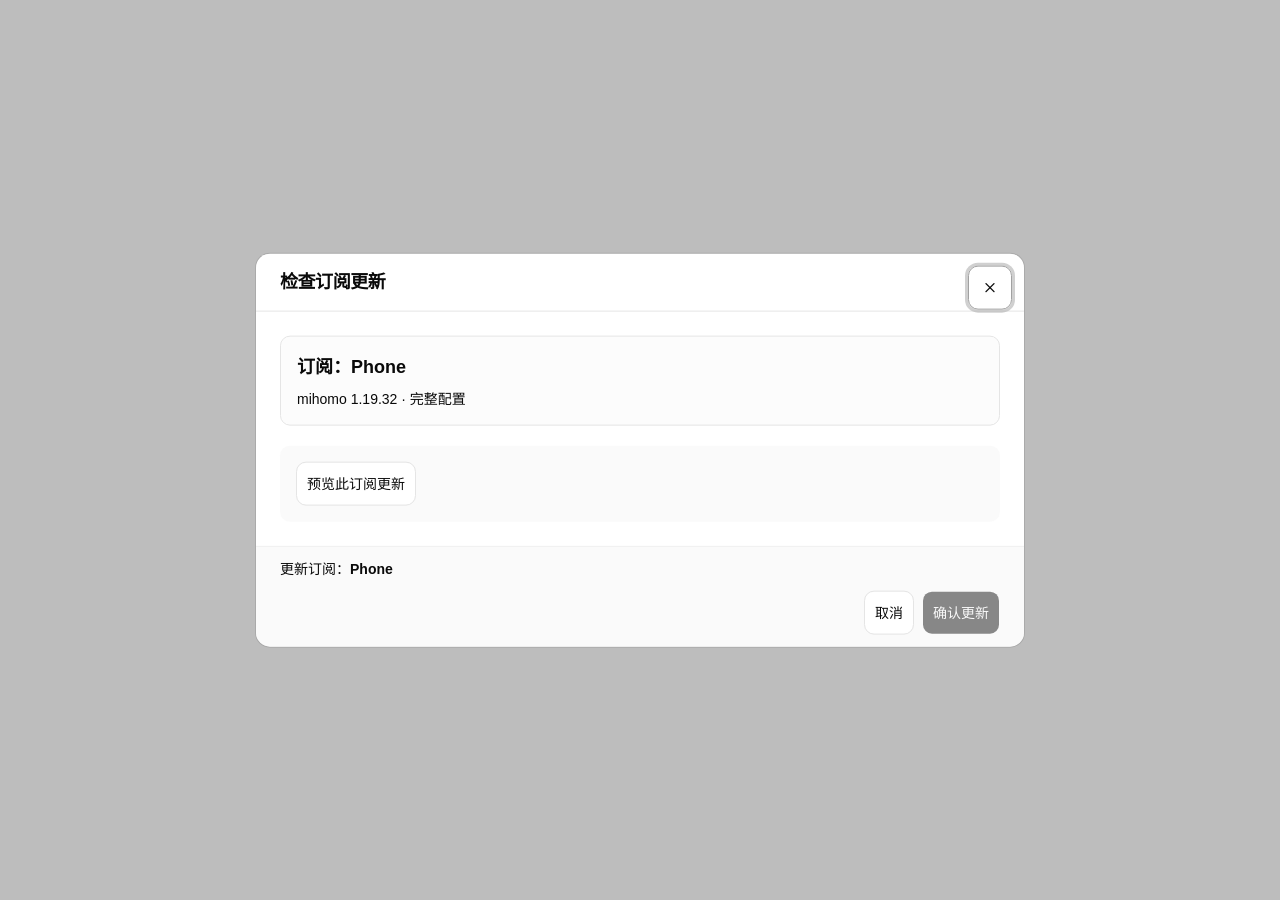
Test case: puts changed connections before unchanged groups and exposes categories rather than private values
The width and height of the screenshot is (1280, 900).
Click the button "预览此订阅更新": (356, 483) top-left (296, 461), bottom-right (416, 505)
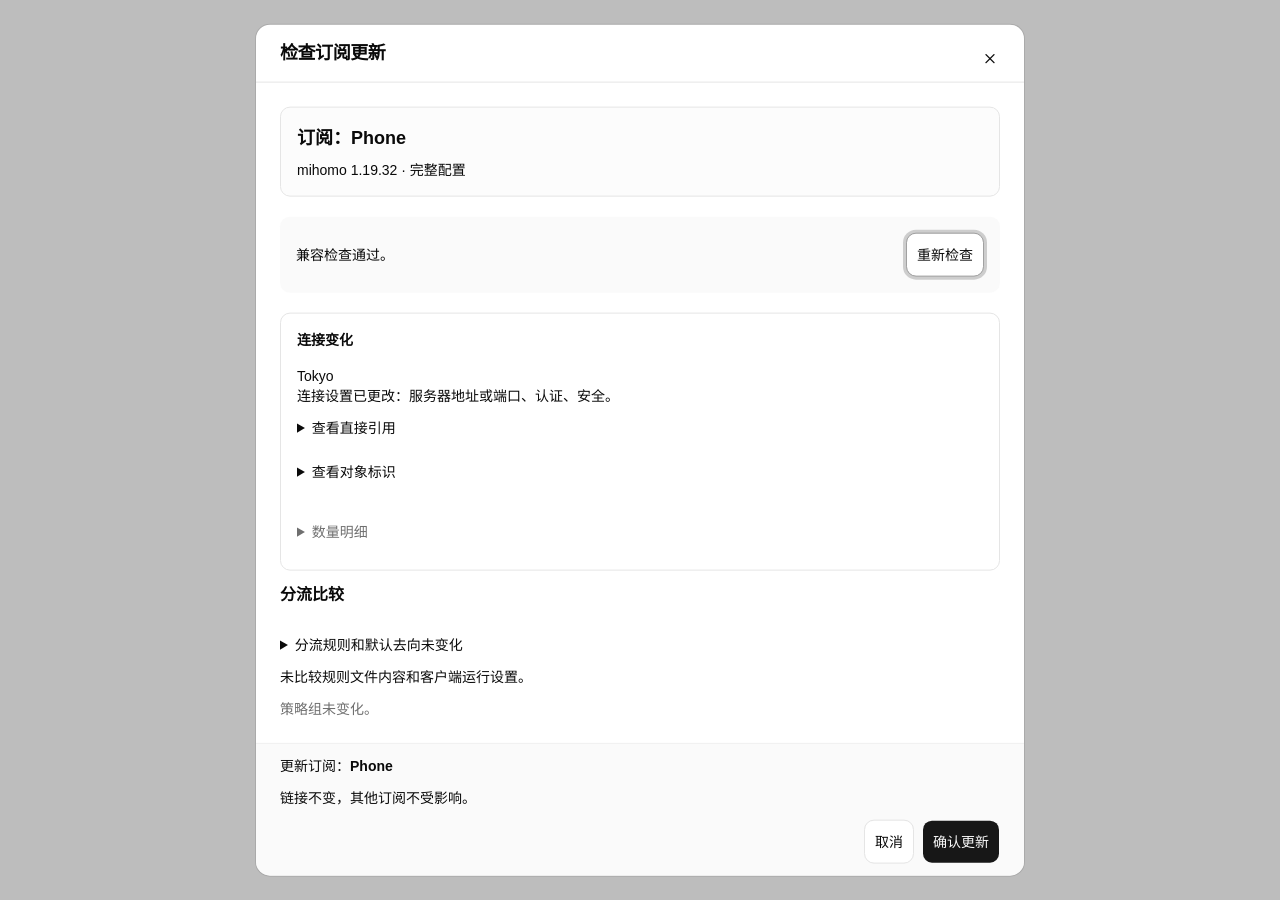
Check: the text "兼容检查通过。" is shown, box top-left (296, 244), bottom-right (394, 264)
Check: the text "连接设置已更改：服务器地址或端口、认证、安全。" is shown, box top-left (297, 387), bottom-right (619, 403)
